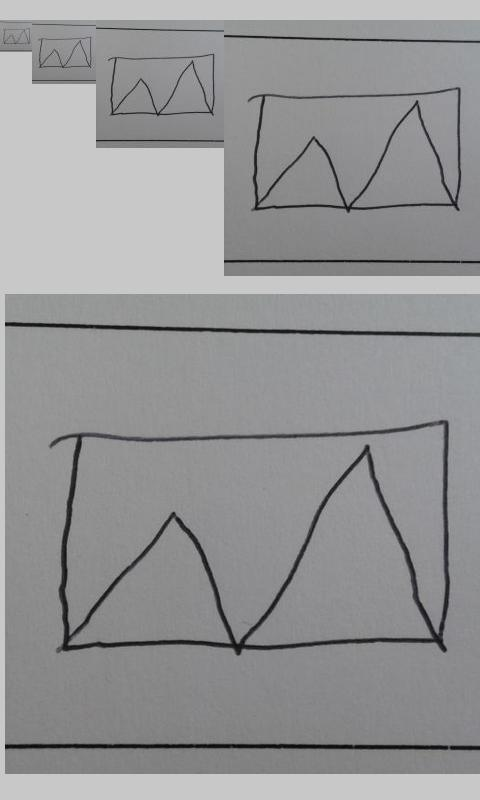image_view: (54, 418, 453, 657), (251, 85, 462, 213), (109, 53, 217, 119), (37, 36, 92, 69), (3, 27, 31, 45)
